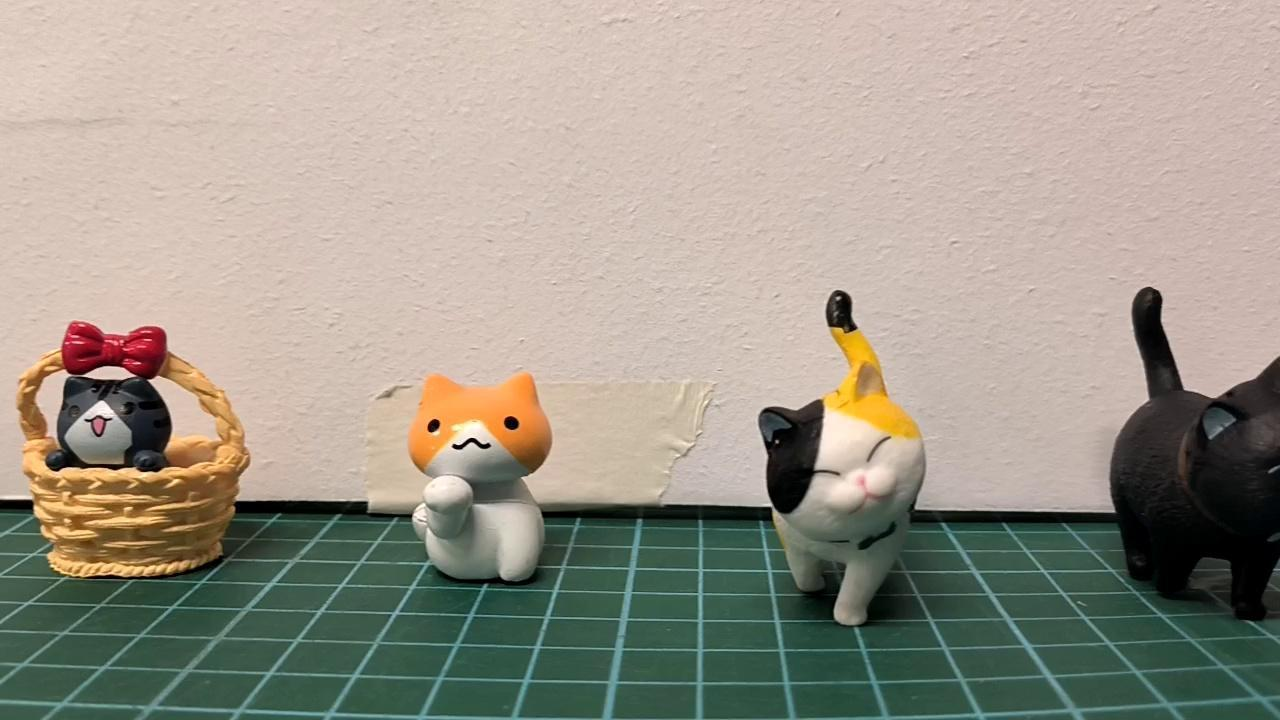pet: (756, 283, 929, 629), (1116, 286, 1280, 618), (411, 371, 550, 582), (48, 368, 176, 475)
